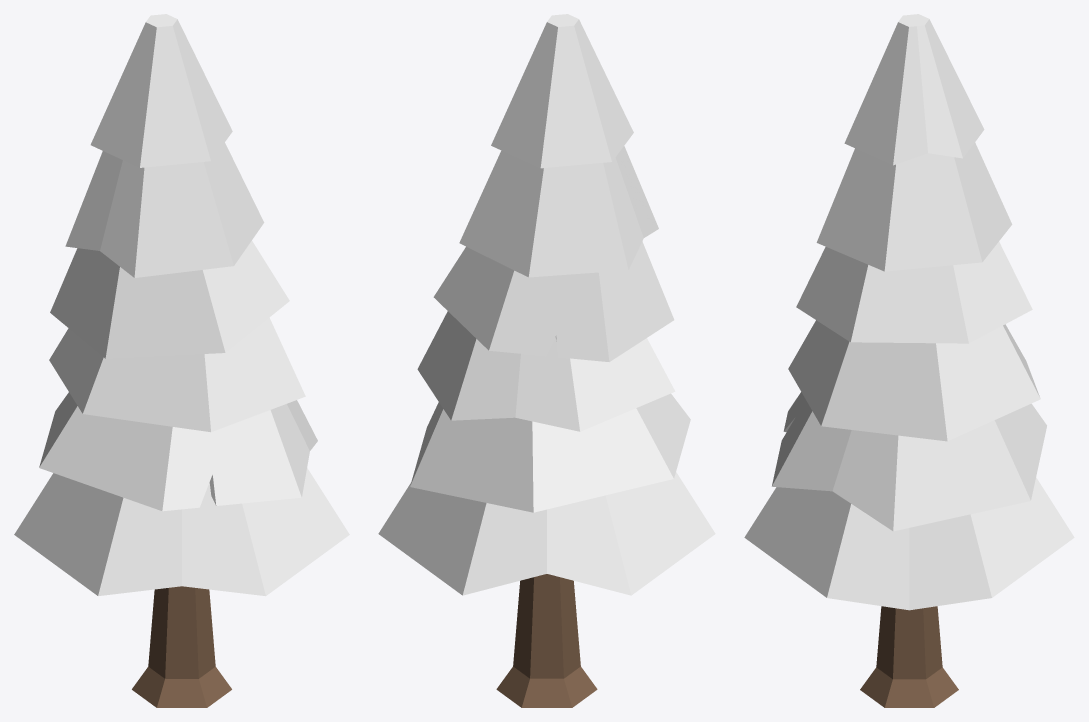
The model's file is tree 8.fbx.
3 renders of one model, left to right at view 1: azimuth 30°, elevation 25°; view 2: azimuth 150°, elevation 25°; view 3: azimuth 270°, elevation 25°, orthographic. The views are drawn at different scales.
Visible parts, largest first — view 1: Tree 8; view 2: Tree 8; view 3: Tree 8.
Boxes of the visible parts, bbox=[...] form: Tree 8: bbox=[14, 14, 349, 707]; Tree 8: bbox=[378, 14, 715, 707]; Tree 8: bbox=[744, 14, 1074, 707].
Size of the model in its own units: 214 by 524 by 237.
1 material, 1 textured.
